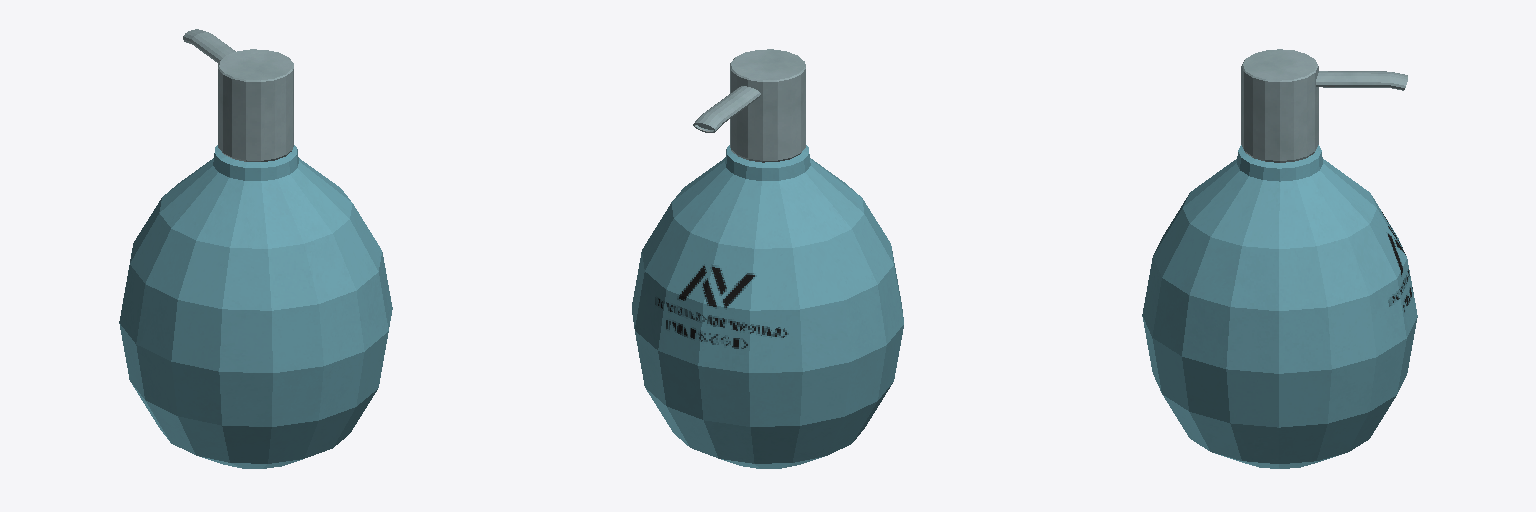
3 views of the same model, side by side, from view 1: azimuth 30°, elevation 25°; view 2: azimuth 150°, elevation 25°; view 3: azimuth 270°, elevation 25° (orthographic).
Parts seen in each view (by area): view 1: soap_01; view 2: soap_01; view 3: soap_01.
Boxes of the visible parts, x1,y1,x2,y2 form: soap_01: [119, 29, 392, 468]; soap_01: [632, 49, 903, 468]; soap_01: [1142, 49, 1417, 468].
Bounding box in the file's own units: 0.0821 × 0.1257 × 0.0821.
1 materials, 1 textured.